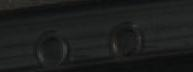joints: (108, 18, 145, 60), (32, 27, 71, 66)
